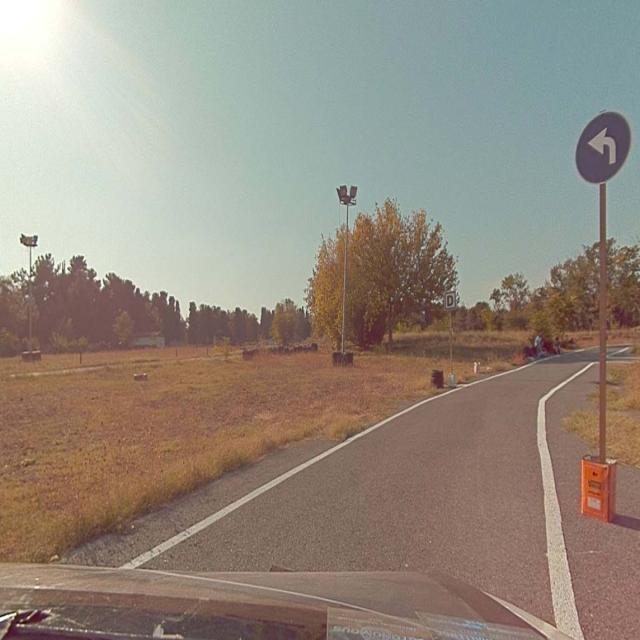durak: (445, 294, 455, 308)
sol: (575, 113, 629, 183)
